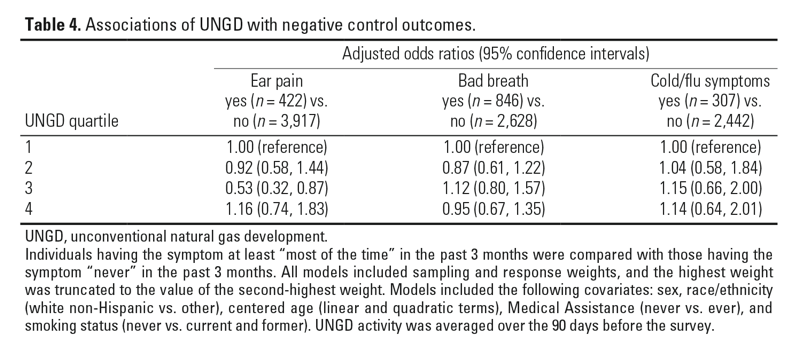fracking table: (14, 6, 785, 228)
